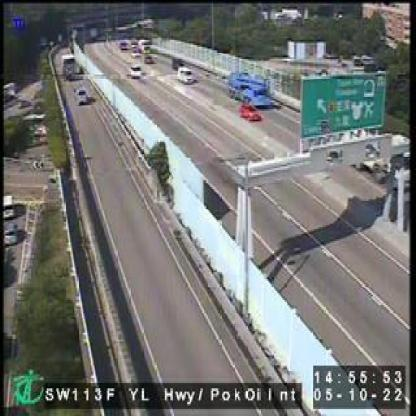Car: (239, 104, 260, 121), (178, 66, 194, 85), (73, 88, 87, 104), (170, 56, 184, 68), (128, 64, 142, 76)
Truck: (228, 71, 272, 106)
